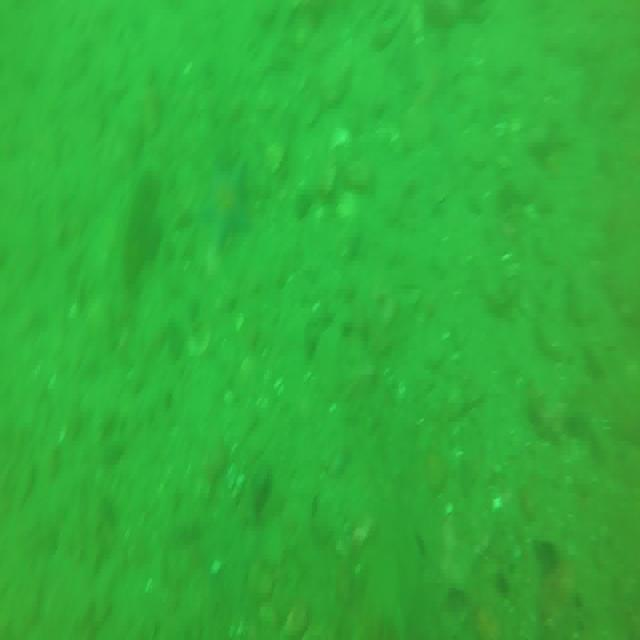scallop: (264, 131, 284, 177), (184, 322, 212, 353), (328, 127, 352, 162)
starfish: (188, 160, 250, 260)
